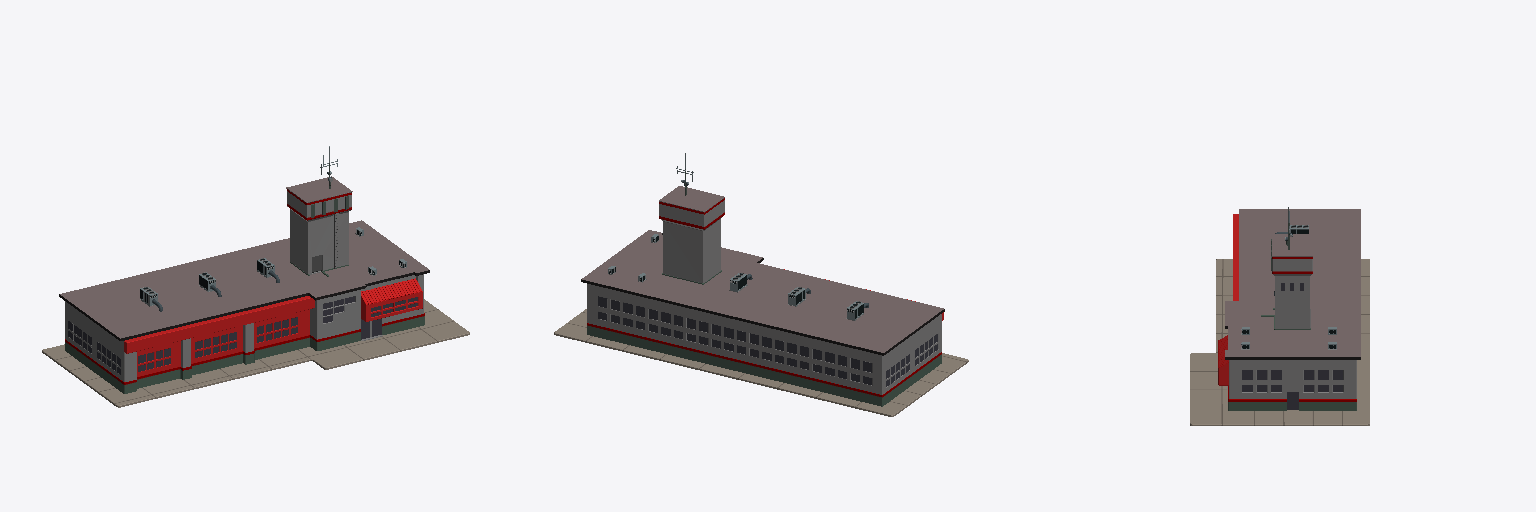
The picture shows the model from 3 angles: view 1: azimuth 30°, elevation 25°; view 2: azimuth 150°, elevation 25°; view 3: azimuth 270°, elevation 25°; orthographic projection.
Visible parts, largest first — view 1: fire_station.1_Mesh_0; view 2: fire_station.1_Mesh_0; view 3: fire_station.1_Mesh_0.
Part boxes in pixels (bbox=[...]): fire_station.1_Mesh_0: bbox=[42, 146, 469, 407]; fire_station.1_Mesh_0: bbox=[554, 153, 968, 416]; fire_station.1_Mesh_0: bbox=[1190, 207, 1369, 425].
Bounding box in the file's own units: 10.41 × 5.11 × 4.77.
1 materials, 1 textured.